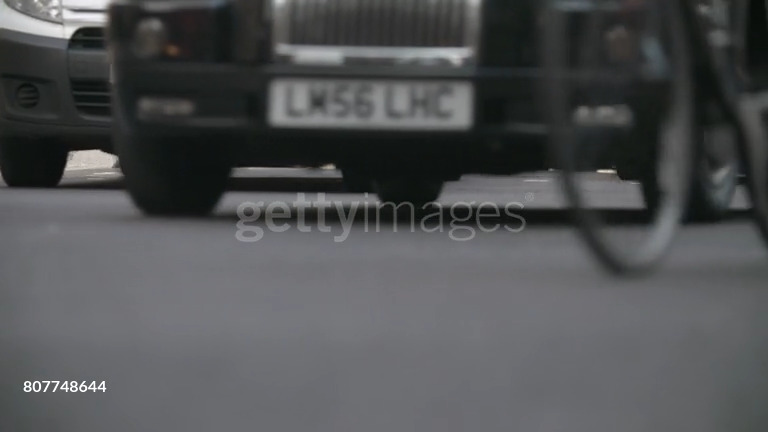car number: (268, 76, 470, 126)
